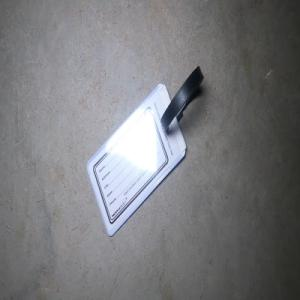LuggageTag: (85, 63, 205, 238)
